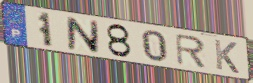0: (139, 29, 169, 63)
1: (37, 11, 55, 50)
8: (106, 23, 133, 58)
K: (212, 37, 241, 75)
N: (65, 16, 101, 56)
R: (173, 32, 208, 70)
